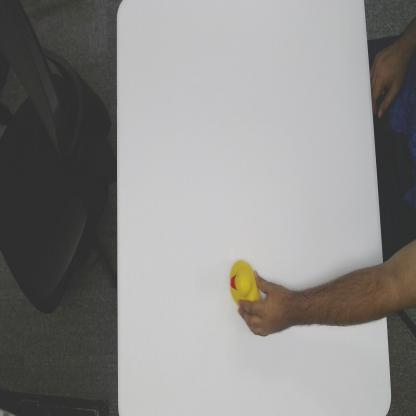Arm: (288, 263, 386, 330)
Duck: (228, 258, 262, 310)
Hand: (237, 271, 286, 338)
